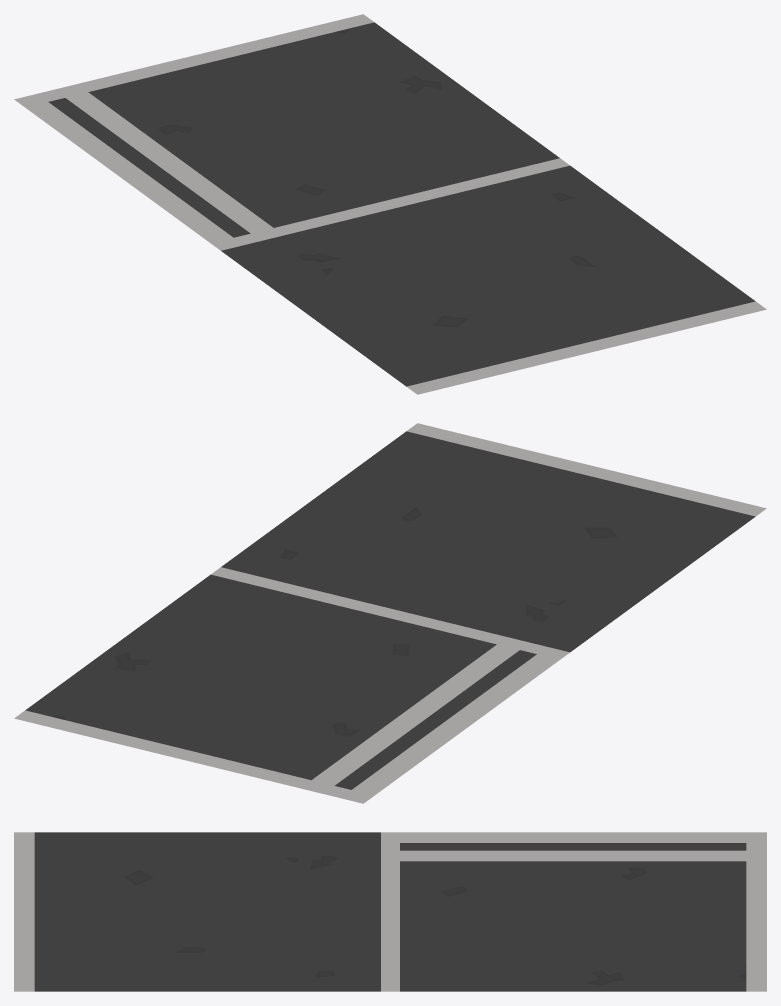
The model's file is SM_Gen_Env_Road_Intersection_01.glb.
3 views of the same model, one above another, from view 1: azimuth 30°, elevation 25°; view 2: azimuth 150°, elevation 25°; view 3: azimuth 270°, elevation 25° (orthographic). The views are drawn at different scales.
Parts seen in each view (by area): view 1: SM_Gen_Env_Road_Intersection_012; view 2: SM_Gen_Env_Road_Intersection_012; view 3: SM_Gen_Env_Road_Intersection_012.
Part boxes in pixels (x1,y1,x2,y2): SM_Gen_Env_Road_Intersection_012: (14,14,766,394); SM_Gen_Env_Road_Intersection_012: (14,423,766,803); SM_Gen_Env_Road_Intersection_012: (14,832,766,991).
Size of the model in its own units: 5 by 1.36e-14 by 10.
1 material, 1 textured.
